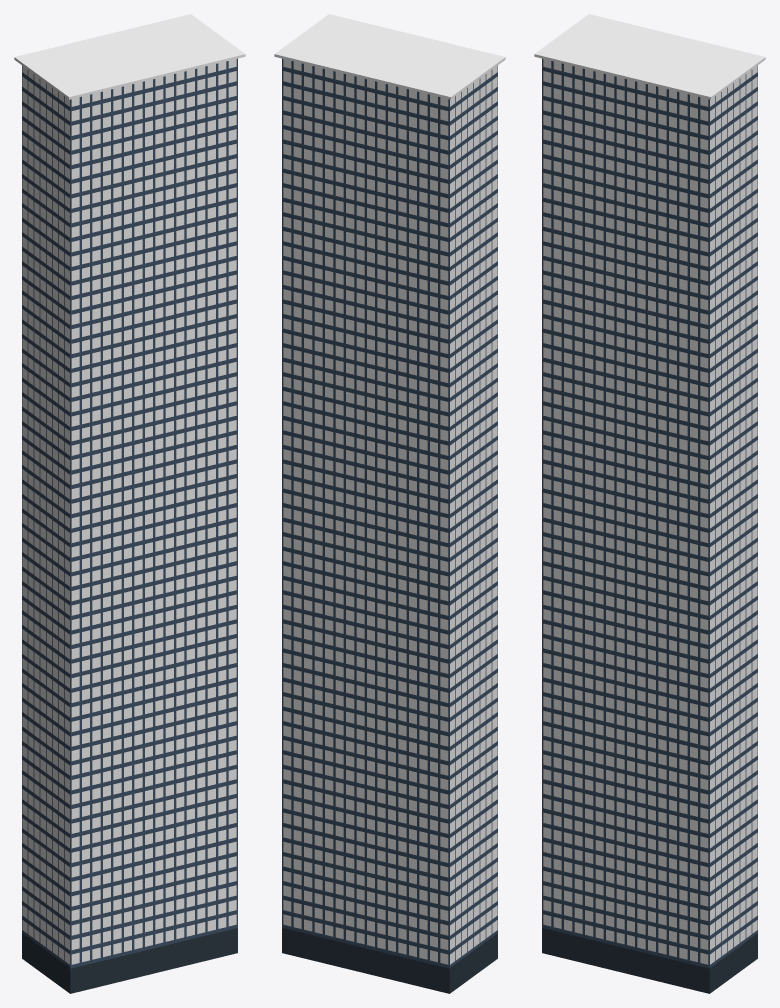
File: sky_60.glb
The picture shows the model from 3 angles, left to right: view 1: azimuth 30°, elevation 25°; view 2: azimuth 150°, elevation 25°; view 3: azimuth 330°, elevation 25°; orthographic projection.
Parts seen in each view (by area): view 1: Plane, Plane.002, Plane.001; view 2: Plane, Plane.002, Plane.001; view 3: Plane, Plane.002, Plane.001.
Boxes of the visible parts, <box> form: Plane: <box>22,58,237,968</box>; Plane.002: <box>14,14,245,99</box>; Plane.001: <box>22,928,237,993</box>; Plane: <box>282,58,497,968</box>; Plane.002: <box>274,14,505,99</box>; Plane.001: <box>282,928,497,993</box>; Plane: <box>542,58,757,968</box>; Plane.002: <box>534,14,765,99</box>; Plane.001: <box>542,928,757,993</box>.
Bounding box in the file's own units: 7.9 × 38.48 × 4.25.
